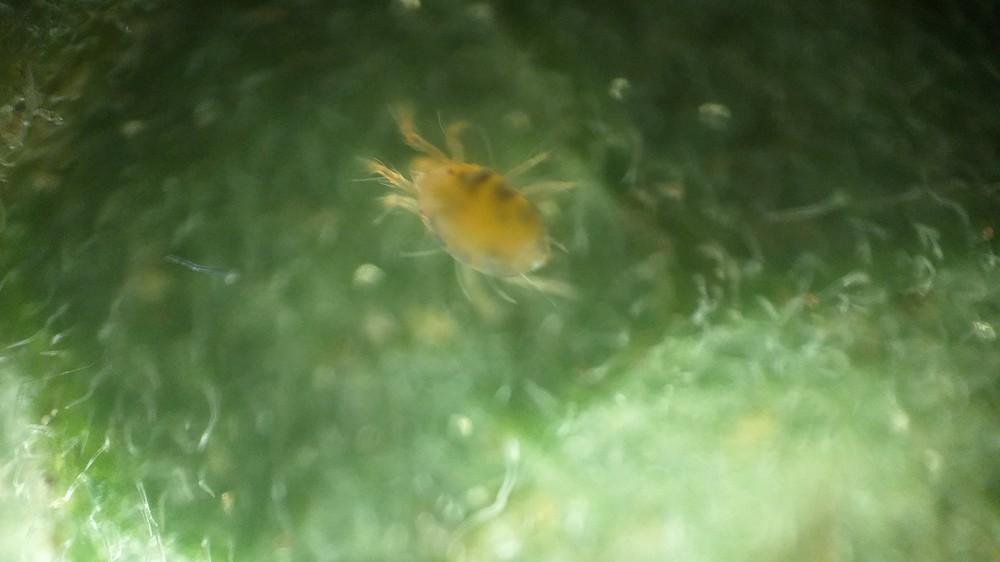Aracnido Rojo: (344, 101, 604, 314)
